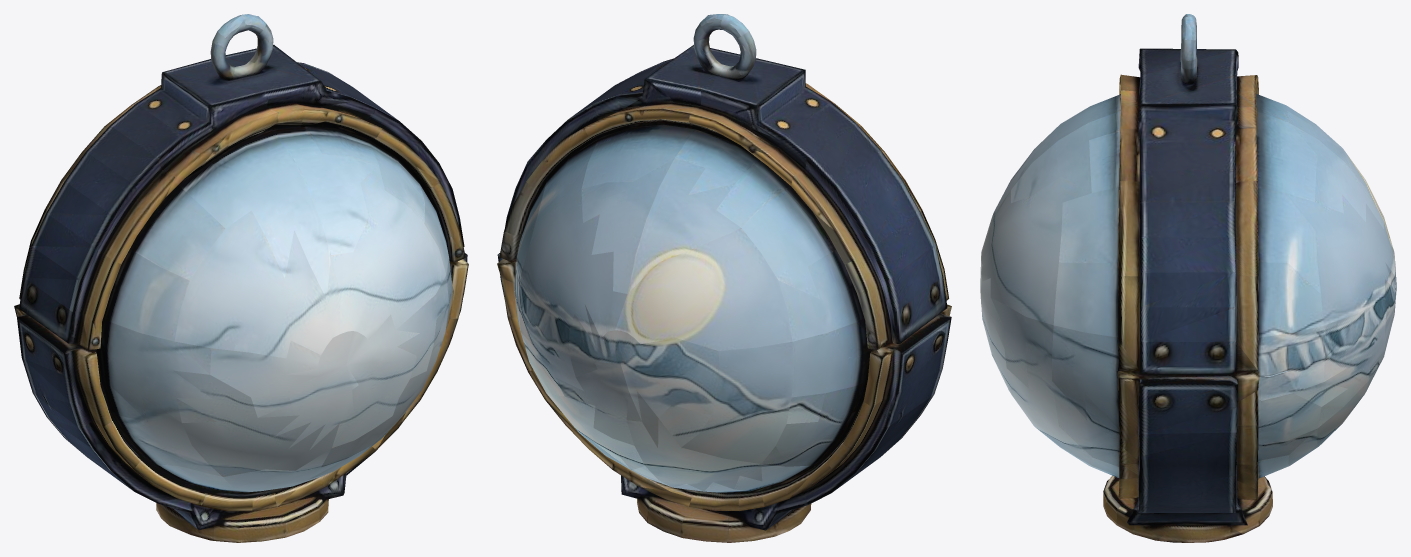
The model's file is polar_day.glb.
3 renders of one model, left to right at view 1: azimuth 30°, elevation 25°; view 2: azimuth 150°, elevation 25°; view 3: azimuth 270°, elevation 25°, orthographic.
Bounding box in the file's own units: 0.8574 × 1 × 0.7695.
Materials: 1 (1 with a texture image).
